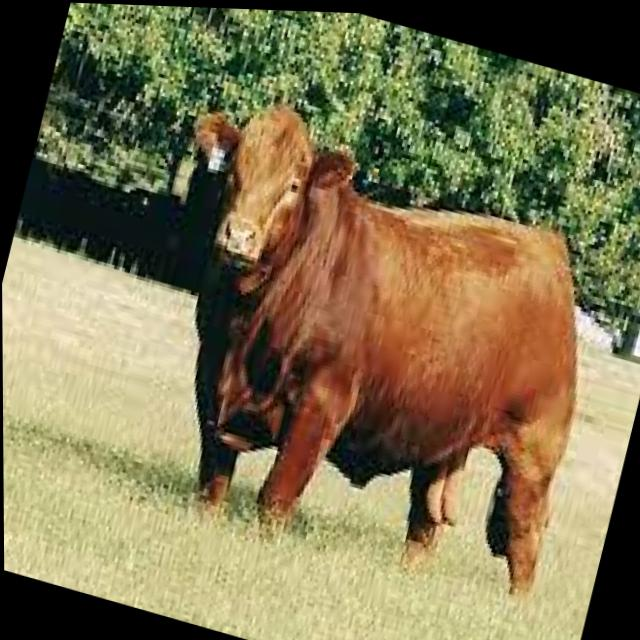cowFace: (137, 52, 397, 356)
